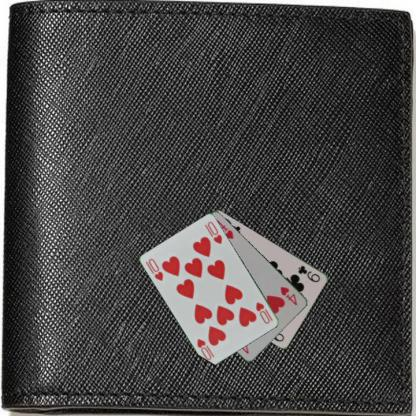10h: (253, 300, 274, 326), (146, 256, 164, 282)
4h: (278, 284, 299, 307)
9c: (296, 263, 322, 284)
